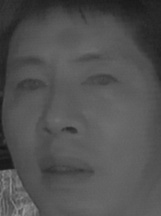eye: (81, 70, 119, 90), (14, 74, 48, 96)
mouth: (35, 155, 96, 184)
